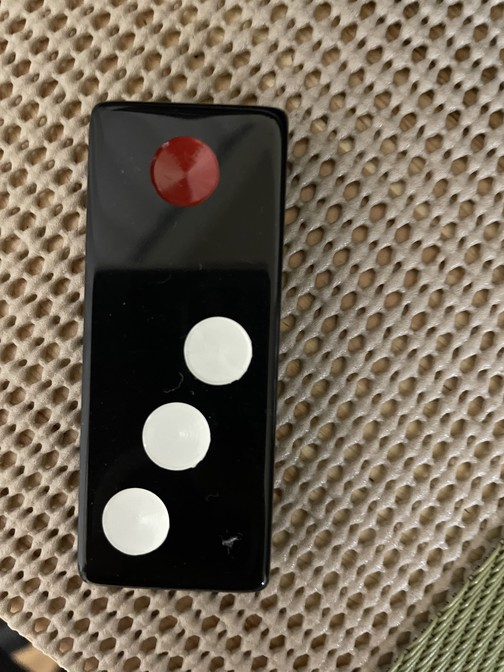goose: (83, 103, 277, 591)
